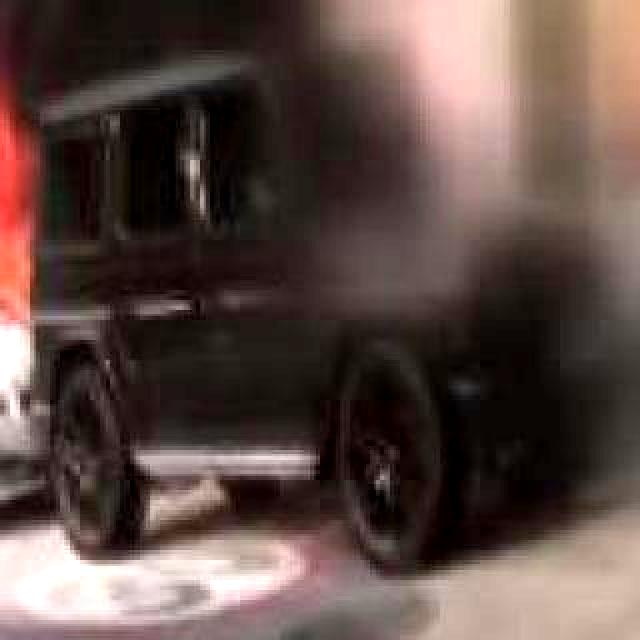fire: (0, 142, 28, 290)
